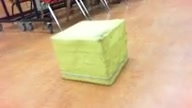cube: (50, 19, 129, 87)
